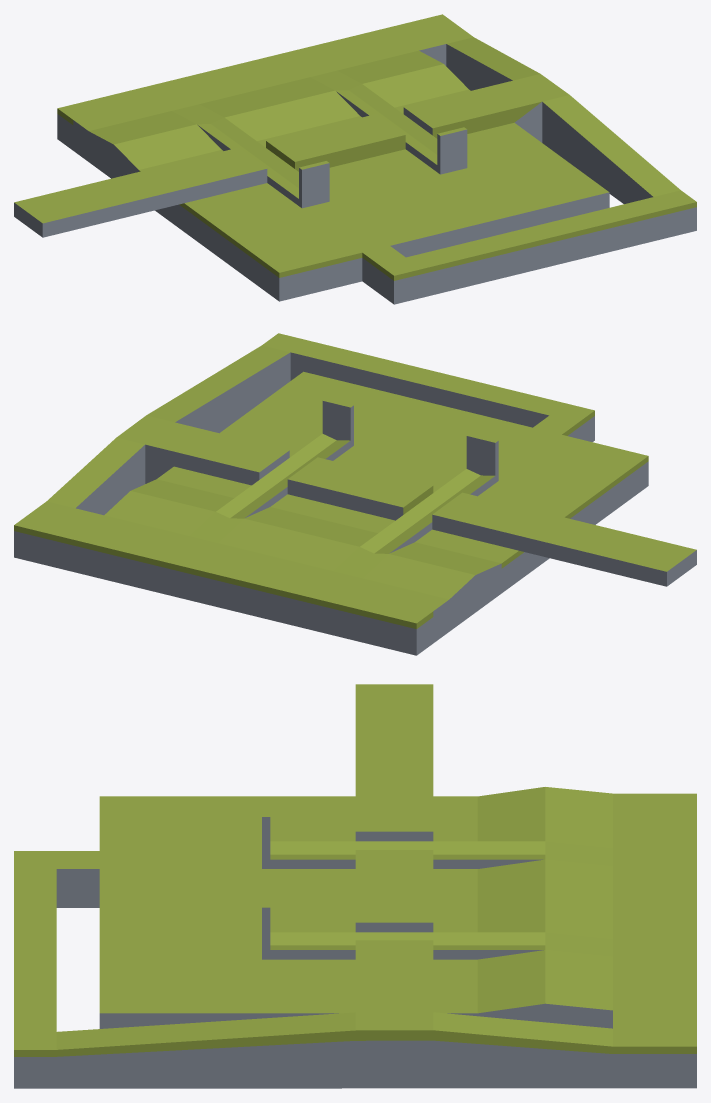
Rendered from Horizontal Platform 7.fbx.
The picture shows the model from 3 angles, top to bottom: view 1: azimuth 30°, elevation 25°; view 2: azimuth 150°, elevation 25°; view 3: azimuth 270°, elevation 25°; orthographic projection. The views are drawn at different scales.
Visible parts, largest first — view 1: Cube.025; view 2: Cube.025; view 3: Cube.025.
Part boxes in pixels (x1,y1,x2,y2): Cube.025: (14,14,696,304); Cube.025: (14,333,696,655); Cube.025: (14,684,696,1088).
Size of the model in its own units: 2874 by 351 by 2395.
